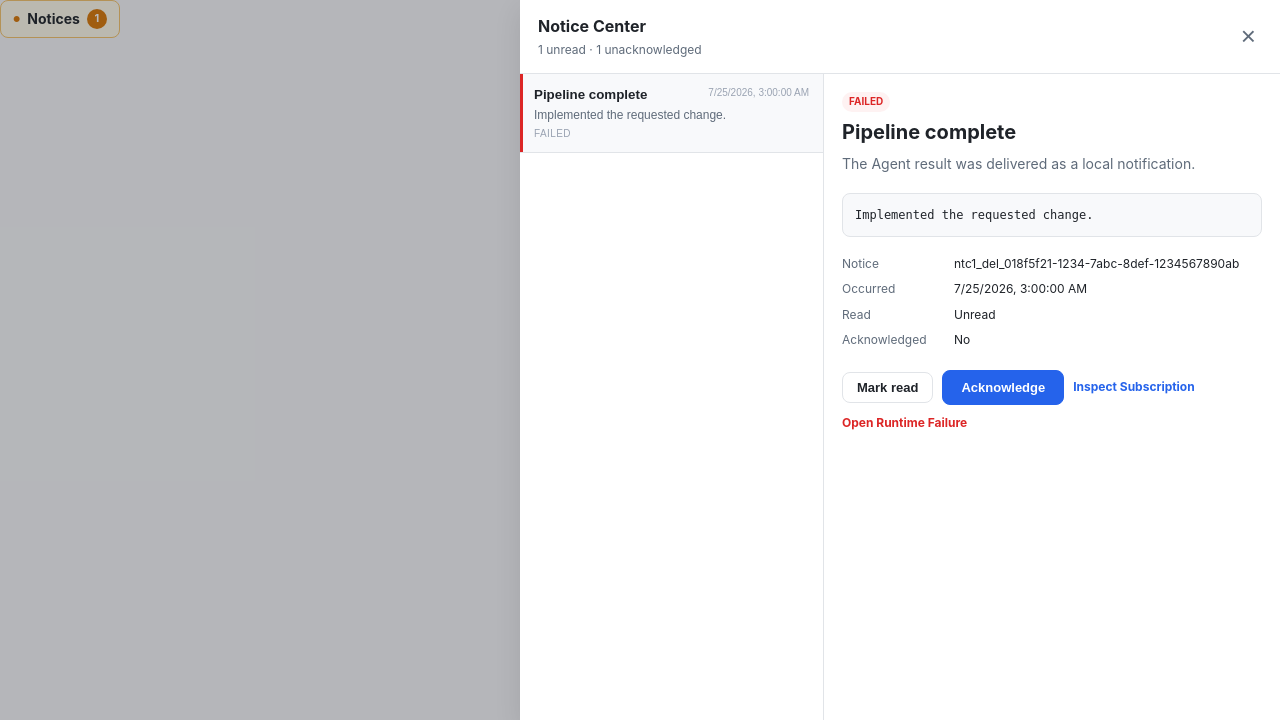
Test case: Notice Center › preserves a Runtime Failure target while dismissing the drawer
Click the link with class "danger" at (905, 423), box [842,414,967,433]
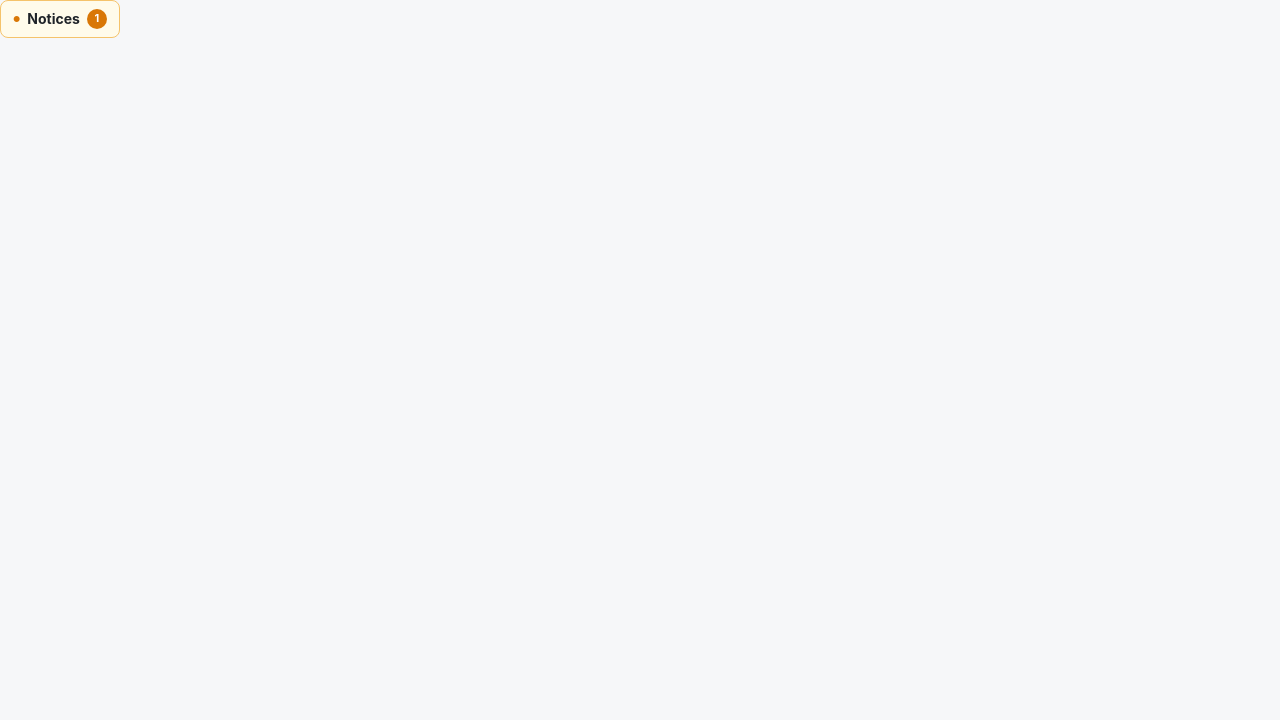
Expected: the element with class "notice-drawer" is gone
